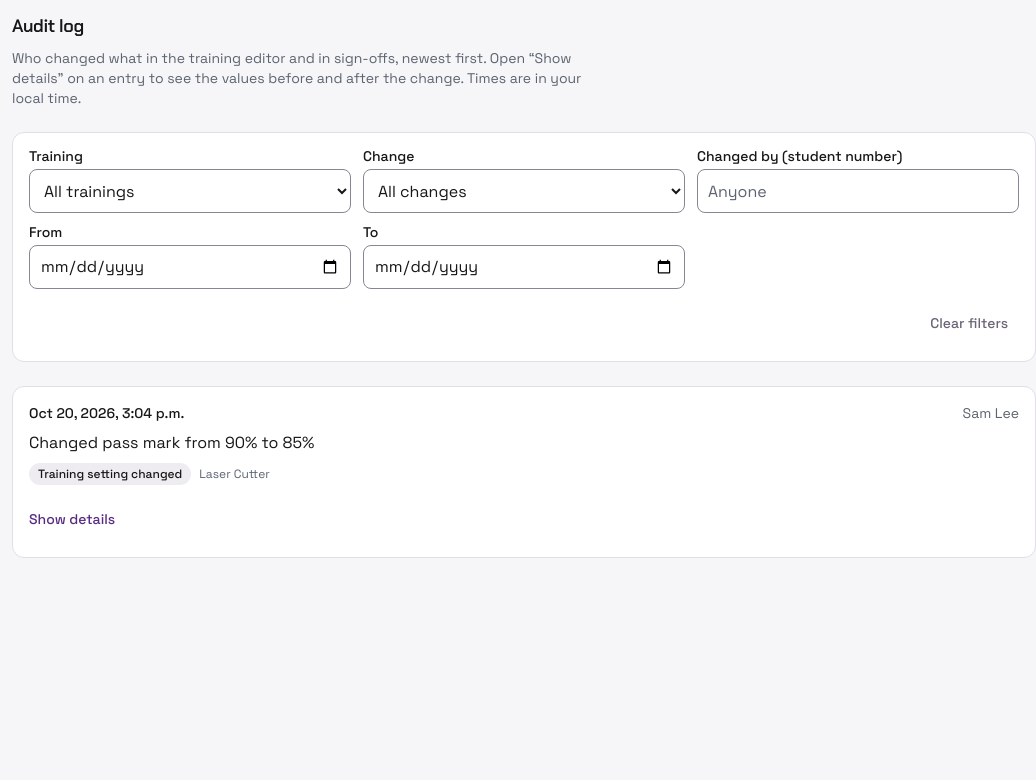
Test case: TrainingAuditLog › keeps the before and after values closed until someone opens them
Click the heading "Show details" at x=72, y=519, box [29,510,115,528]
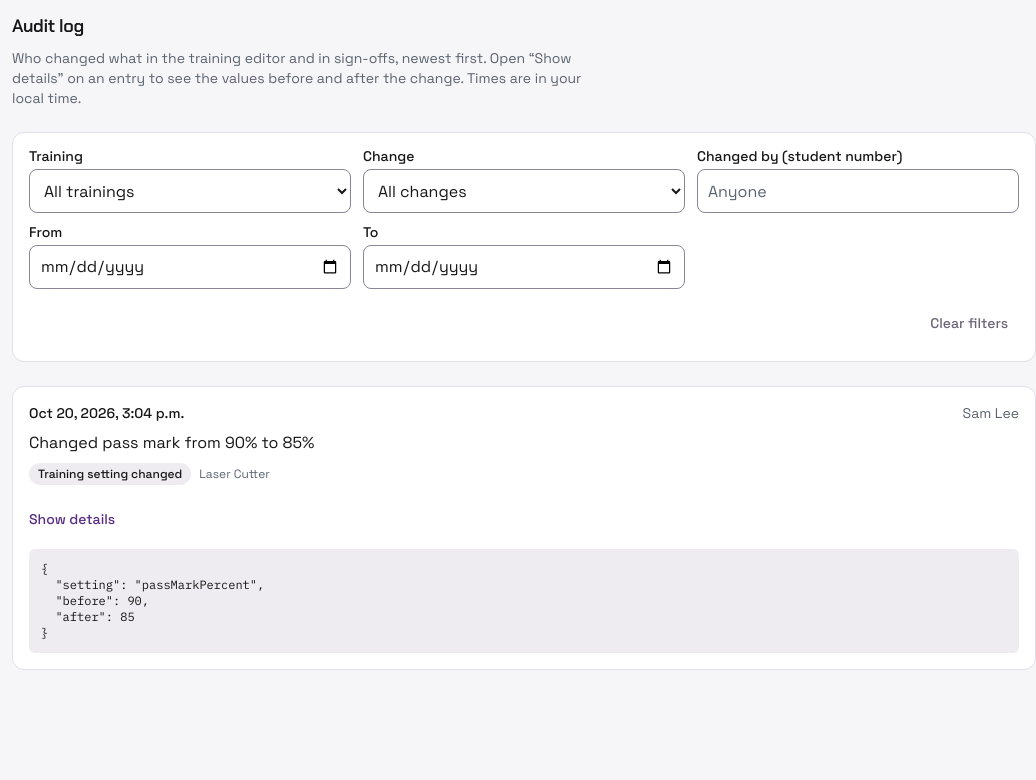
Check: the text "Show details" shows "\"before\": 90", box [41,561,264,640]
Check: the text "Show details" shows "\"after\": 85", box [41,561,264,640]
